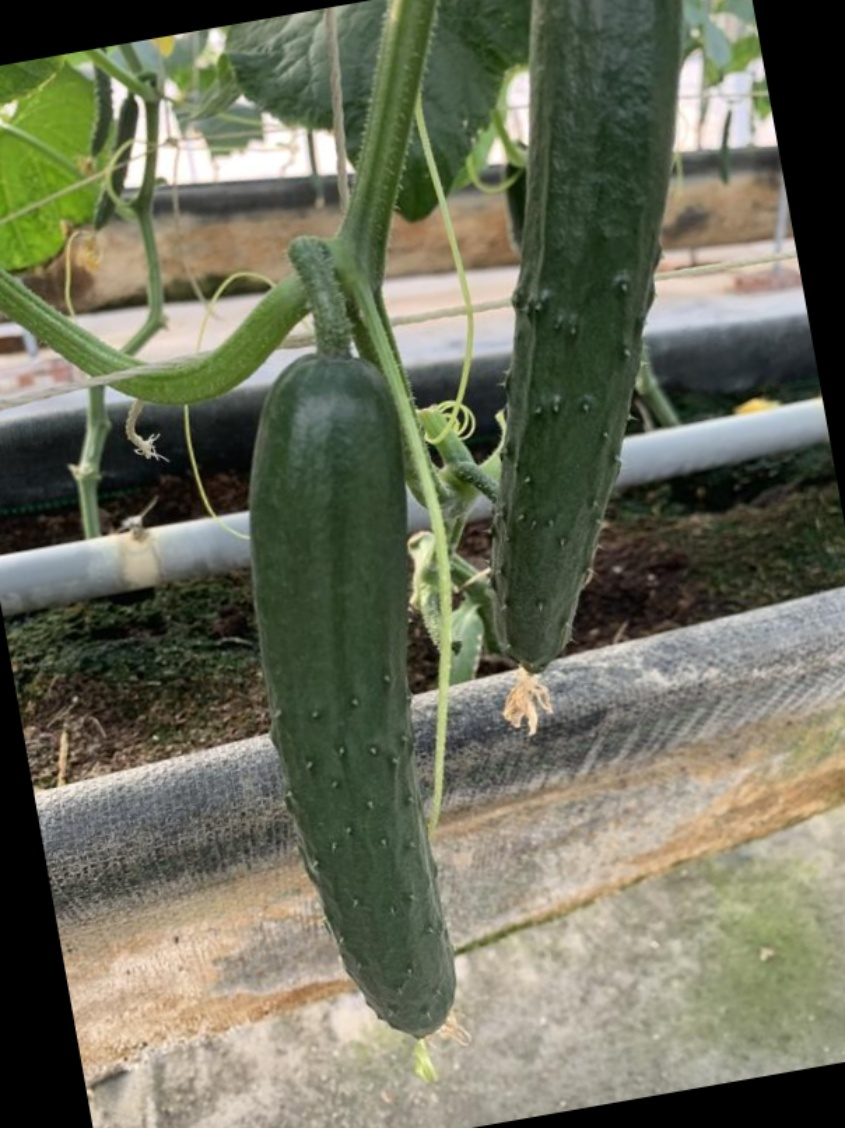mature: (486, 0, 690, 678)
